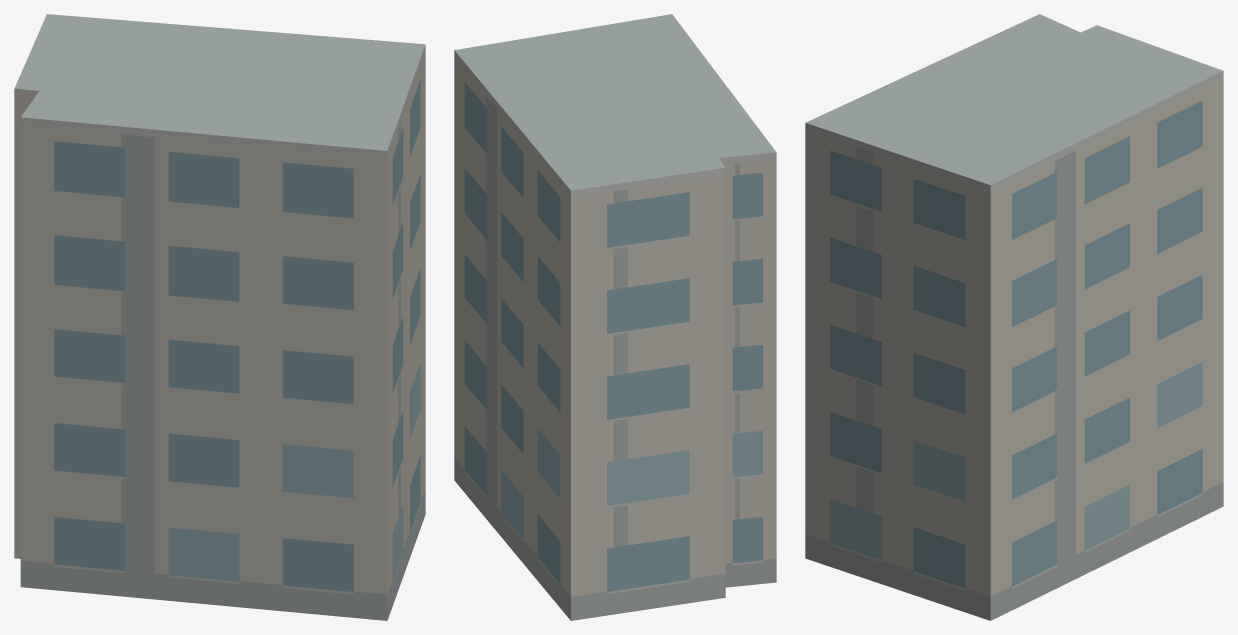
File: survey-upis-32523568.glb
The picture shows the model from 3 angles, left to right: view 1: azimuth 30°, elevation 25°; view 2: azimuth 150°, elevation 25°; view 3: azimuth 270°, elevation 25°; orthographic projection. The views are drawn at different scales.
Visible parts, largest first — view 1: survey-upis-32523568.tmp; view 2: survey-upis-32523568.tmp; view 3: survey-upis-32523568.tmp.
Part boxes in pixels (box(x1,y1,x2,y2)): survey-upis-32523568.tmp: box(14, 14, 425, 620); survey-upis-32523568.tmp: box(454, 14, 776, 620); survey-upis-32523568.tmp: box(805, 14, 1223, 620).
Bounding box in the file's own units: 12.44 × 14.75 × 12.84.
